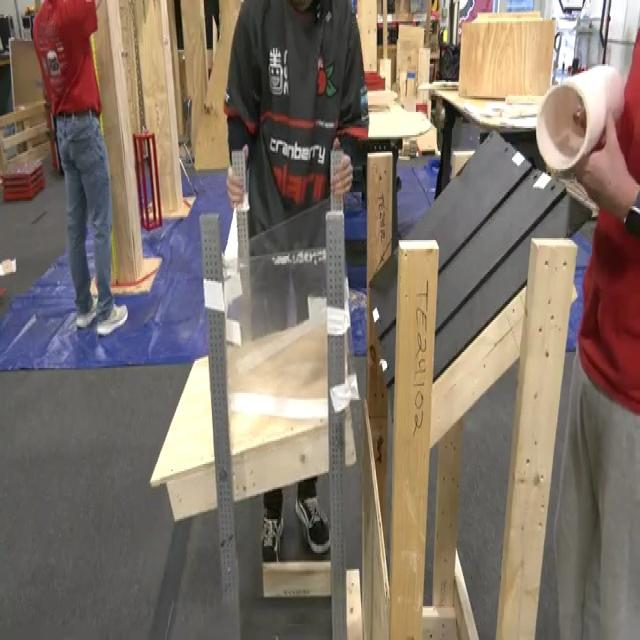Coral: (535, 61, 625, 172)
